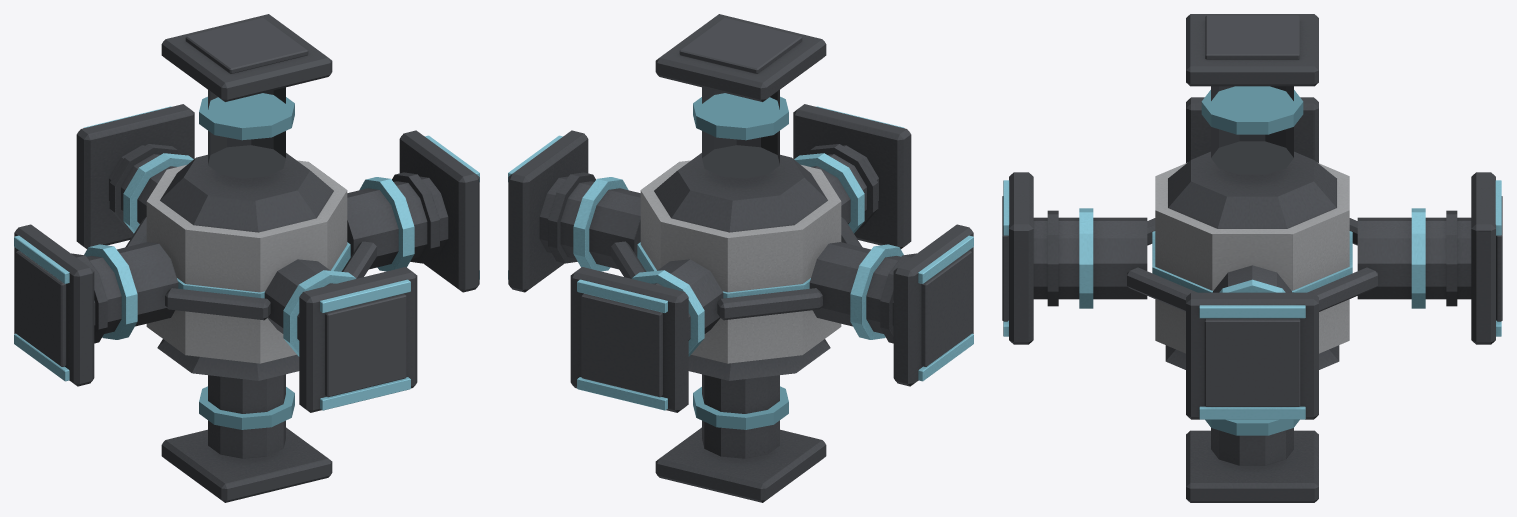
The model's file is SM_ConnectorHub.fbx.
3 views of the same model, side by side, from view 1: azimuth 30°, elevation 25°; view 2: azimuth 150°, elevation 25°; view 3: azimuth 270°, elevation 25° (orthographic). The views are drawn at different scales.
Visible parts, largest first — view 1: SMN_ConnectorHub; view 2: SMN_ConnectorHub; view 3: SMN_ConnectorHub.
Boxes of the visible parts, <box> form: SMN_ConnectorHub: <box>14,14,479,502</box>; SMN_ConnectorHub: <box>508,14,973,502</box>; SMN_ConnectorHub: <box>1002,14,1502,502</box>.
Bounding box in the file's own units: 0.904 × 0.892 × 0.904.
